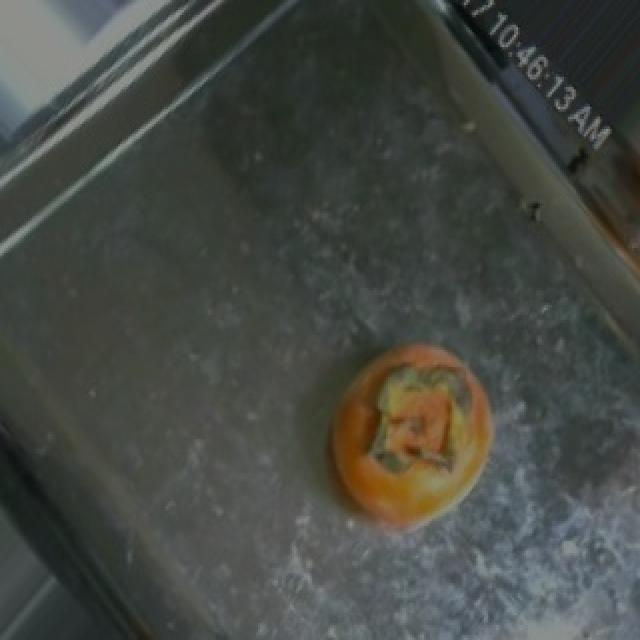Fruit: (308, 325, 512, 556)
